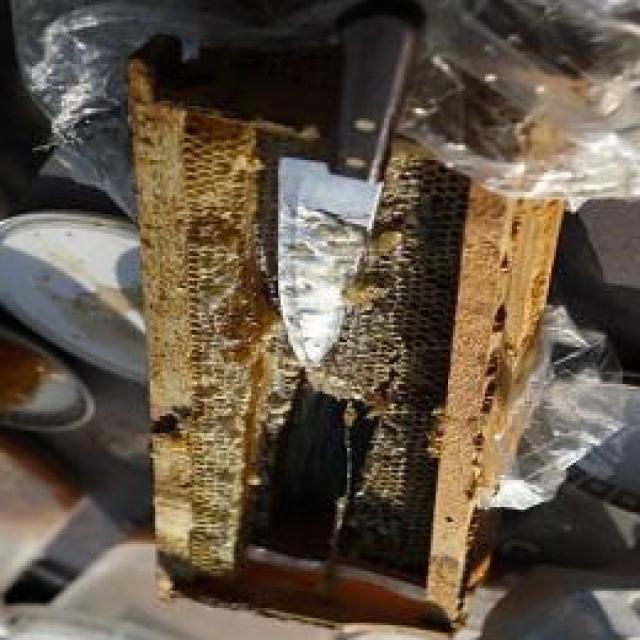knife: (267, 2, 423, 370)
